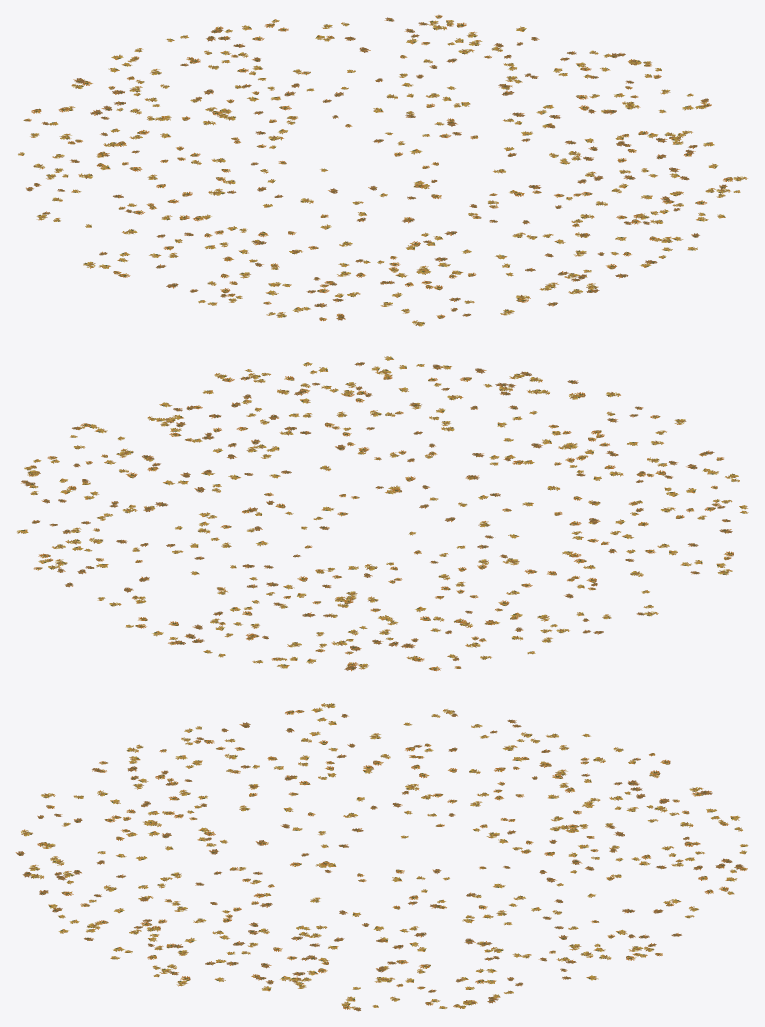
The model's file is chataignier_vieux_a.fbx.
The picture shows the model from 3 angles, top to bottom: view 1: azimuth 30°, elevation 25°; view 2: azimuth 150°, elevation 25°; view 3: azimuth 270°, elevation 25°; orthographic projection.
Visible parts, largest first — view 1: chataignier_vieux_a_feuilles_sol; view 2: chataignier_vieux_a_feuilles_sol; view 3: chataignier_vieux_a_feuilles_sol.
Boxes of the visible parts, x1,y1,x2,y2 form: chataignier_vieux_a_feuilles_sol: (18, 14, 747, 326); chataignier_vieux_a_feuilles_sol: (17, 356, 748, 671); chataignier_vieux_a_feuilles_sol: (15, 703, 748, 1011).
Size of what is drawn, in the model's own units: 22.05 by 0.00592 by 22.07.
